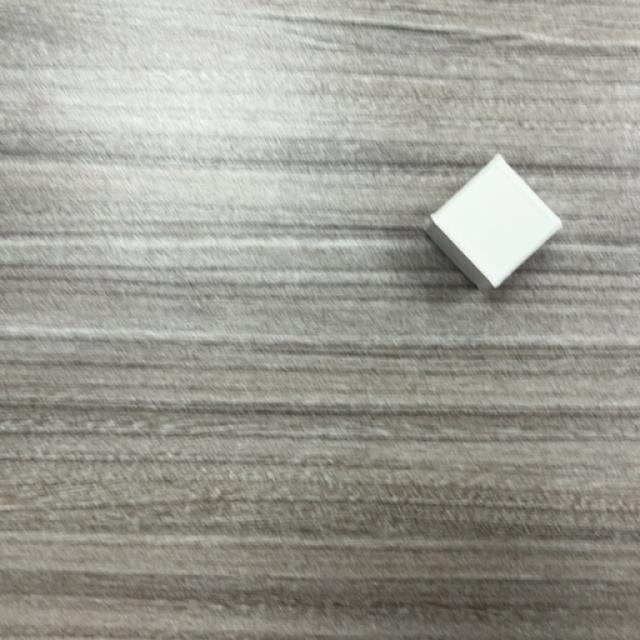Blanco: (422, 156, 564, 292)
